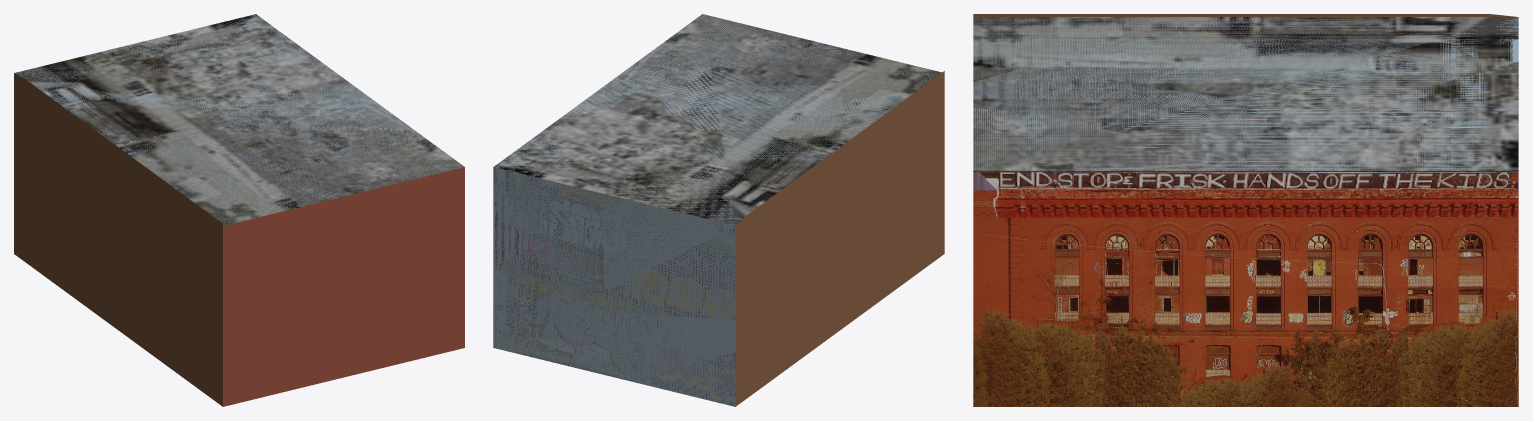
File: Batcave2.fbx
The picture shows the model from 3 angles, left to right: view 1: azimuth 30°, elevation 25°; view 2: azimuth 150°, elevation 25°; view 3: azimuth 270°, elevation 25°; orthographic projection. The views are drawn at different scales.
Parts seen in each view (by area): view 1: Model; view 2: Model; view 3: Model.
Boxes of the visible parts, x1,y1,x2,y2 form: Model: [14, 14, 464, 406]; Model: [493, 14, 944, 406]; Model: [973, 14, 1518, 406].
Bounding box in the file's own units: 572 × 414 × 856.
